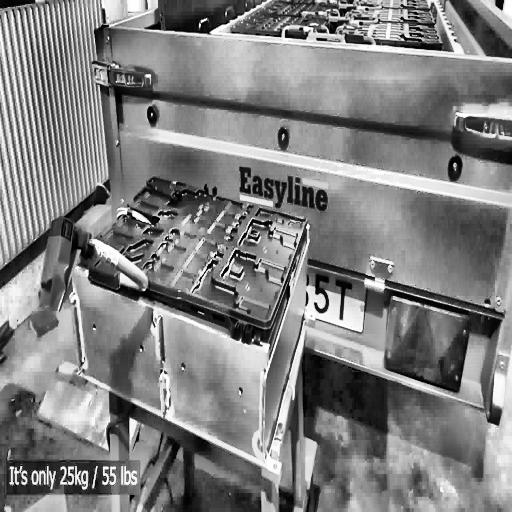battery_module: (62, 152, 310, 483)
high_volt_cable: (39, 217, 151, 304)
